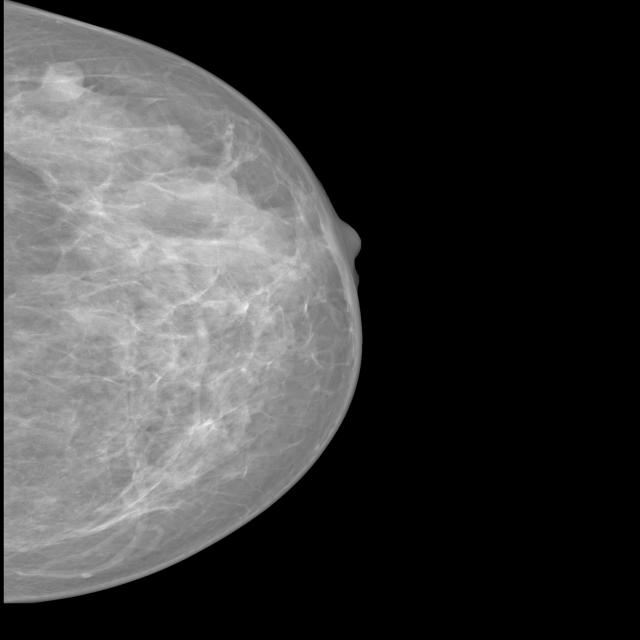Mass_1: (22, 47, 108, 116)
